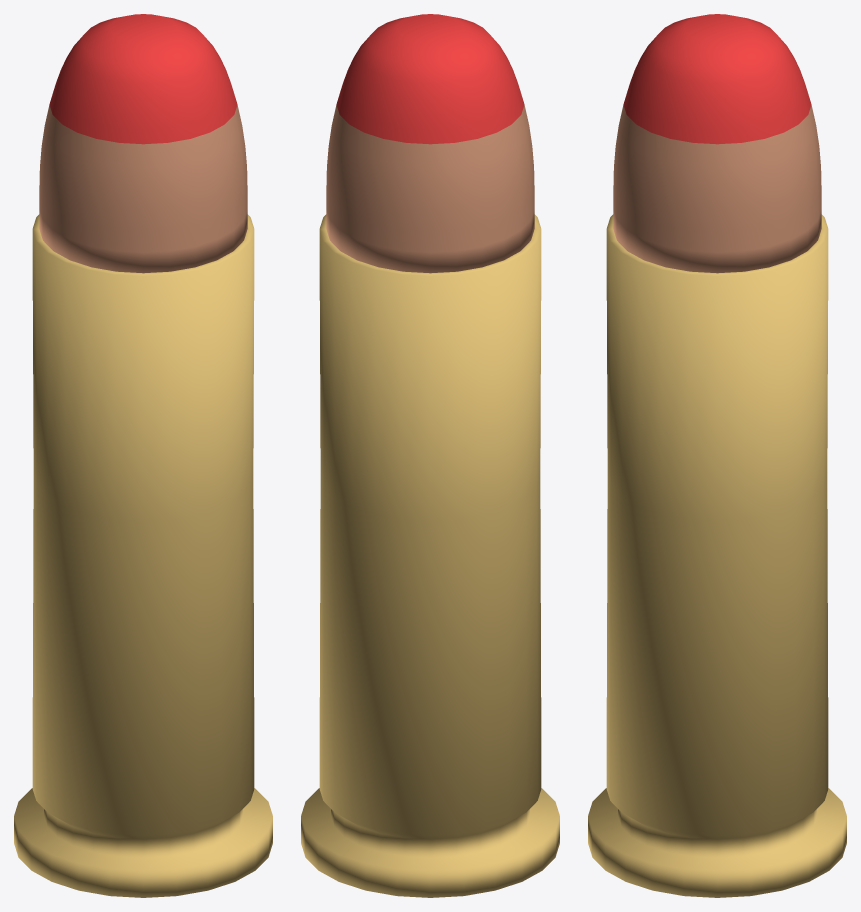
The picture shows the model from 3 angles, left to right: view 1: azimuth 30°, elevation 25°; view 2: azimuth 150°, elevation 25°; view 3: azimuth 270°, elevation 25°; orthographic projection.
Parts seen in each view (by area): view 1: vaina, bala_cuerpo, punta; view 2: vaina, bala_cuerpo, punta; view 3: vaina, bala_cuerpo, punta.
Boxes of the visible parts, x1,y1,x2,y2 form: vaina: [14, 214, 272, 897]; bala_cuerpo: [39, 105, 247, 273]; punta: [49, 14, 237, 144]; vaina: [301, 214, 559, 897]; bala_cuerpo: [326, 105, 534, 273]; punta: [336, 14, 524, 144]; vaina: [588, 214, 846, 897]; bala_cuerpo: [613, 105, 821, 273]; punta: [623, 14, 811, 144].
Bounding box in the file's own units: 0.0112 × 0.0389 × 0.0112.
